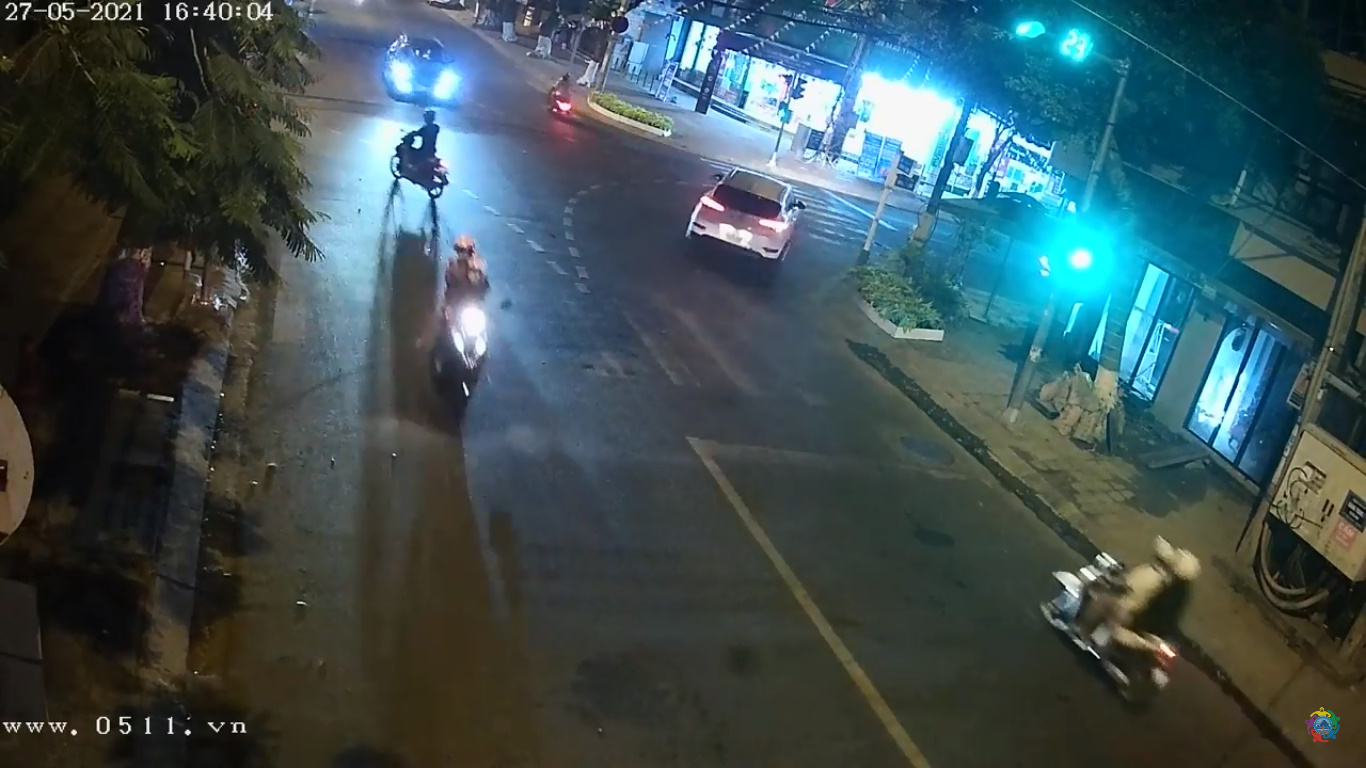motorbike: (409, 235, 520, 420)
